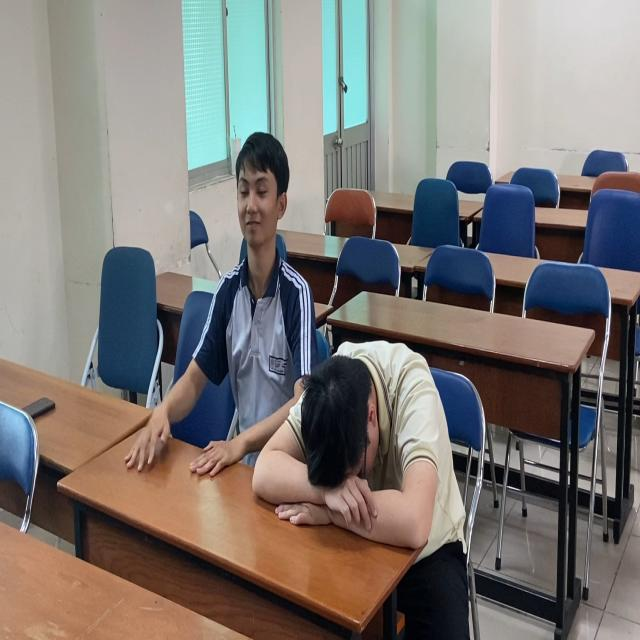sleep: (255, 340, 462, 555)
